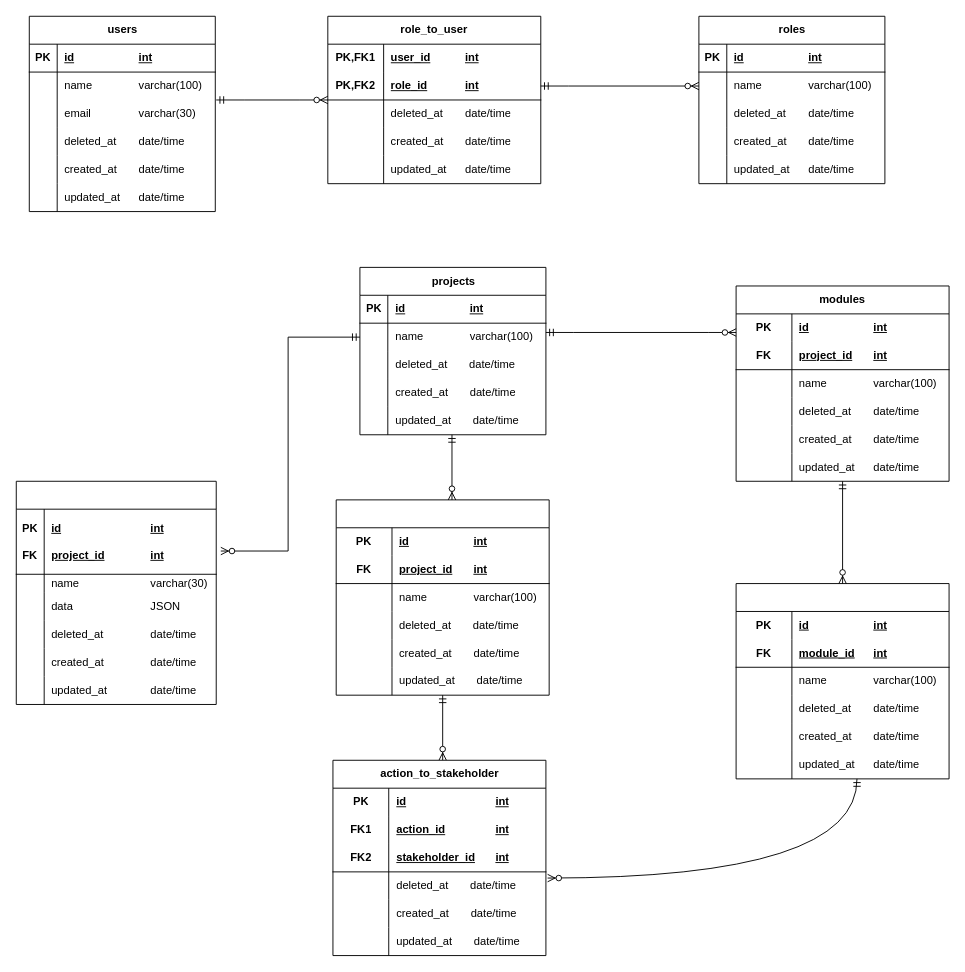
The diagram is 965 pixels wide and 972 high, and some of its shapes have lost their labels. The box of each missing label's shape, as (x1, y1, x2, y2) in pixels:
actions: (735, 583, 949, 779)
snapshots: (15, 480, 216, 704)
stakeholders: (335, 499, 549, 695)
